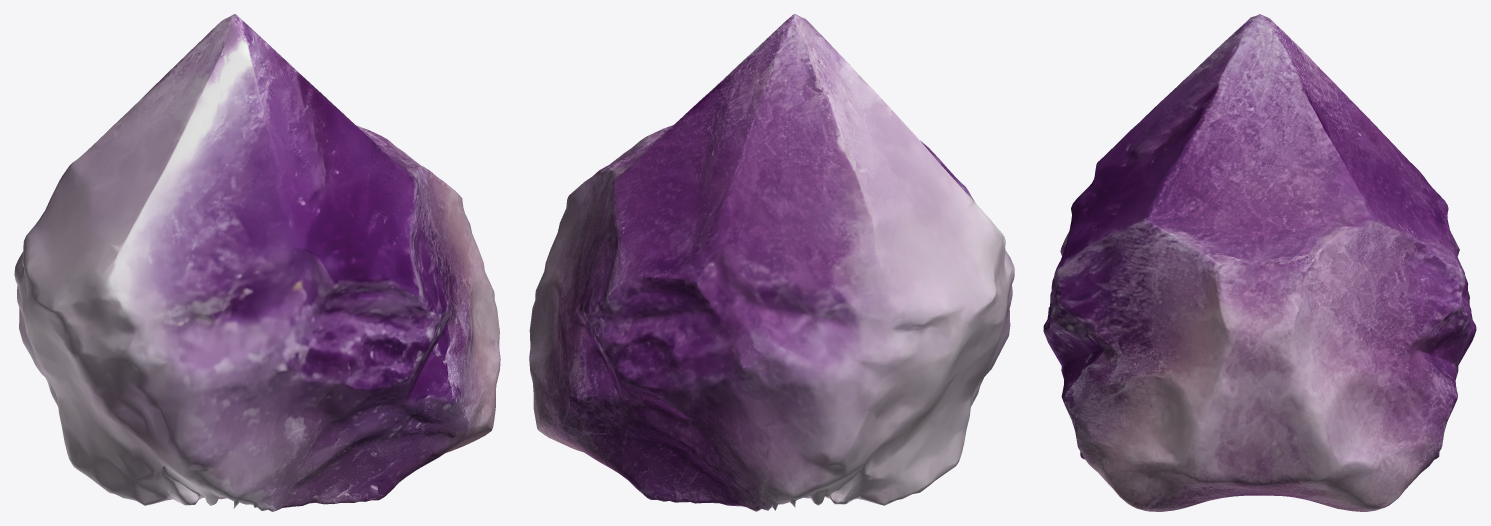
File: cristal.glb
3 renders of one model, left to right at view 1: azimuth 30°, elevation 25°; view 2: azimuth 150°, elevation 25°; view 3: azimuth 270°, elevation 25°, orthographic. The views are drawn at different scales.
Parts seen in each view (by area): view 1: tripo_node_c05b422f-1184-4932-bd03-b516ea291415; view 2: tripo_node_c05b422f-1184-4932-bd03-b516ea291415; view 3: tripo_node_c05b422f-1184-4932-bd03-b516ea291415.
Boxes of the visible parts, bbox=[...] form: tripo_node_c05b422f-1184-4932-bd03-b516ea291415: bbox=[14, 14, 500, 511]; tripo_node_c05b422f-1184-4932-bd03-b516ea291415: bbox=[529, 14, 1014, 511]; tripo_node_c05b422f-1184-4932-bd03-b516ea291415: bbox=[1043, 14, 1476, 511].
Bounding box in the file's own units: 0.9799 × 0.9677 × 0.9016.
Materials: 1 (1 with a texture image).
